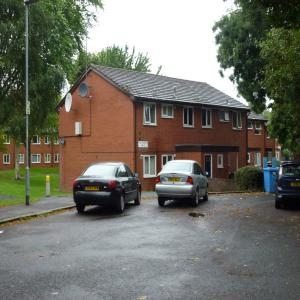Vehicle-registration-plate: (86, 186, 100, 192), (169, 178, 181, 182), (292, 183, 300, 187)
